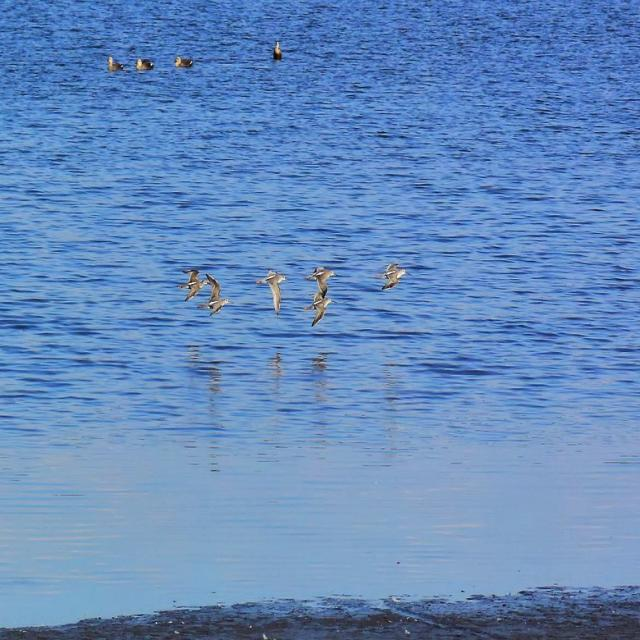bird: (255, 270, 289, 316), (203, 272, 234, 317), (301, 292, 338, 327), (374, 259, 412, 293), (301, 262, 337, 294), (179, 268, 210, 299), (101, 51, 129, 75), (171, 51, 199, 73), (130, 52, 156, 75), (266, 36, 286, 62)
